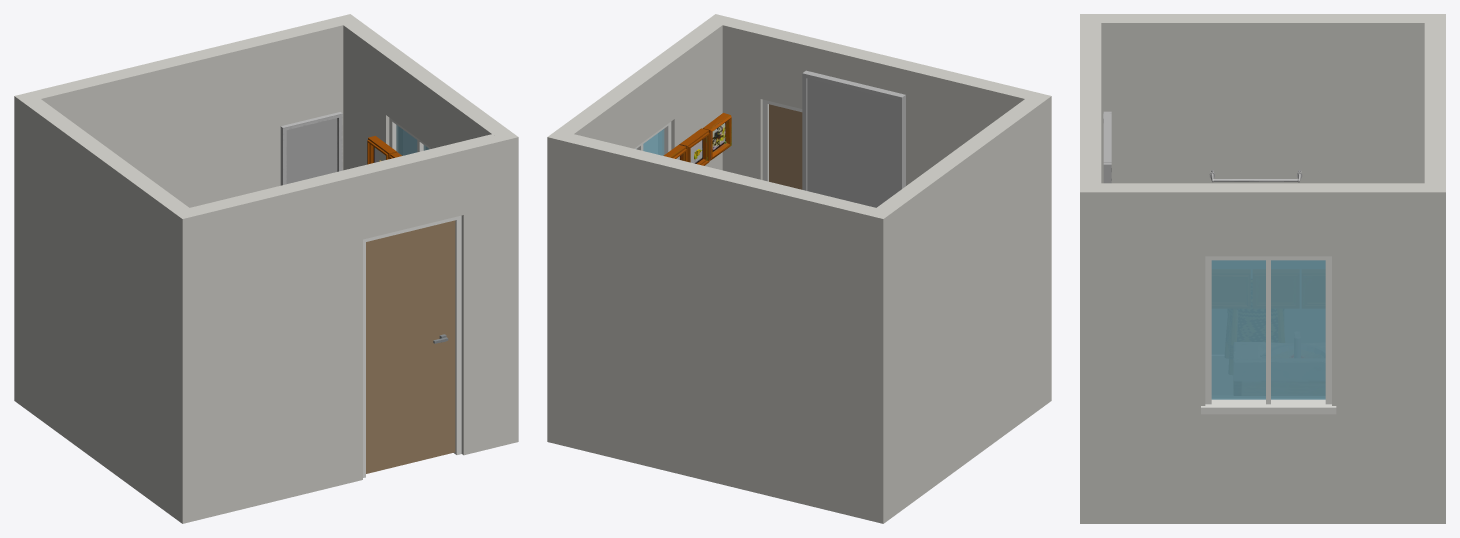
File: holodeck.glb
The picture shows the model from 3 angles, left to right: view 1: azimuth 30°, elevation 25°; view 2: azimuth 150°, elevation 25°; view 3: azimuth 270°, elevation 25°; orthographic projection. The views are drawn at different scales.
Parts seen in each view (by area): view 1: wall|scenesmith_101__R00|0, wall|scenesmith_101__R00|2, wall|scenesmith_101__R00|1, wall|scenesmith_101__R00|0 Door 0 | wood leaf, wall|scenesmith_101__R00|3, scenesmith_101__R00_4, wall|scenesmith_101__R00|0 Door 0 | jamb, scenesmith_101__R00_5; view 2: wall|scenesmith_101__R00|1, wall|scenesmith_101__R00|2, wall|scenesmith_101__R00|0, scenesmith_101__R00_7, wall|scenesmith_101__R00|3, wall|scenesmith_101__R00|0 Door 0 | wood leaf, scenesmith_101__R00_5, wall|scenesmith_101__R00|0 Door 0 | jamb; view 3: wall|scenesmith_101__R00|3, wall|scenesmith_101__R00|2, wall|scenesmith_101__R00|3 Window 0 | glazing, wall|scenesmith_101__R00|3 Window 0 | jamb, wall|scenesmith_101__R00|1, wall|scenesmith_101__R00|0, scenesmith_101__R00_7.
Boxes of the visible parts, x1,y1,x2,y2 form: wall|scenesmith_101__R00|0: (182,134,518,523); wall|scenesmith_101__R00|2: (15,92,198,523); wall|scenesmith_101__R00|1: (14,18,343,407); wall|scenesmith_101__R00|0 Door 0 | wood leaf: (366,220,455,473); wall|scenesmith_101__R00|3: (334,14,517,170); scenesmith_101__R00_4: (280,112,342,185); wall|scenesmith_101__R00|0 Door 0 | jamb: (363,215,461,477); scenesmith_101__R00_5: (367,136,402,164); wall|scenesmith_101__R00|1: (547,134,893,523); wall|scenesmith_101__R00|2: (867,92,1051,516); wall|scenesmith_101__R00|0: (722,18,1034,185); scenesmith_101__R00_7: (802,70,905,207); wall|scenesmith_101__R00|3: (548,14,731,170); wall|scenesmith_101__R00|0 Door 0 | wood leaf: (769,104,802,189); scenesmith_101__R00_5: (663,113,731,165); wall|scenesmith_101__R00|0 Door 0 | jamb: (762,99,802,181); wall|scenesmith_101__R00|3: (1080,183,1445,523); wall|scenesmith_101__R00|2: (1080,14,1445,183); wall|scenesmith_101__R00|3 Window 0 | glazing: (1211,260,1325,399); wall|scenesmith_101__R00|3 Window 0 | jamb: (1201,256,1336,414); wall|scenesmith_101__R00|1: (1424,14,1445,183); wall|scenesmith_101__R00|0: (1080,23,1101,183); scenesmith_101__R00_7: (1103,111,1111,183).
Bounding box in the file's own units: 3.03 × 2.61 × 2.6.
14 materials, 8 textured.
